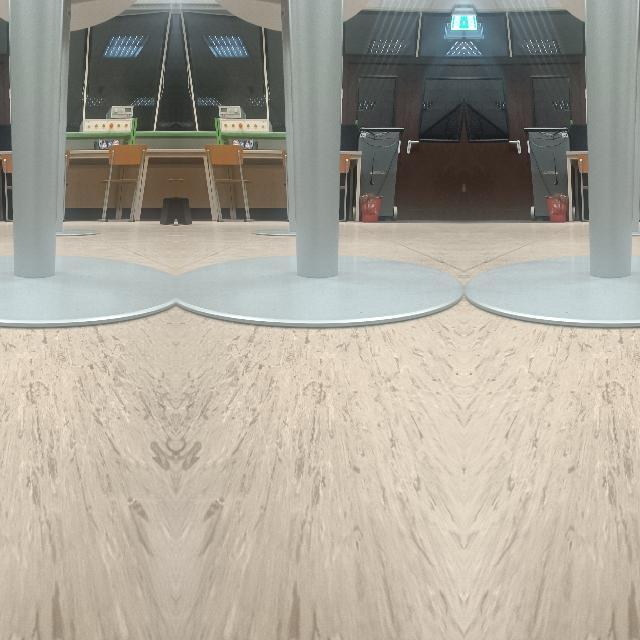obstacle: (174, 60, 463, 334), (463, 60, 640, 334), (0, 60, 175, 334)
